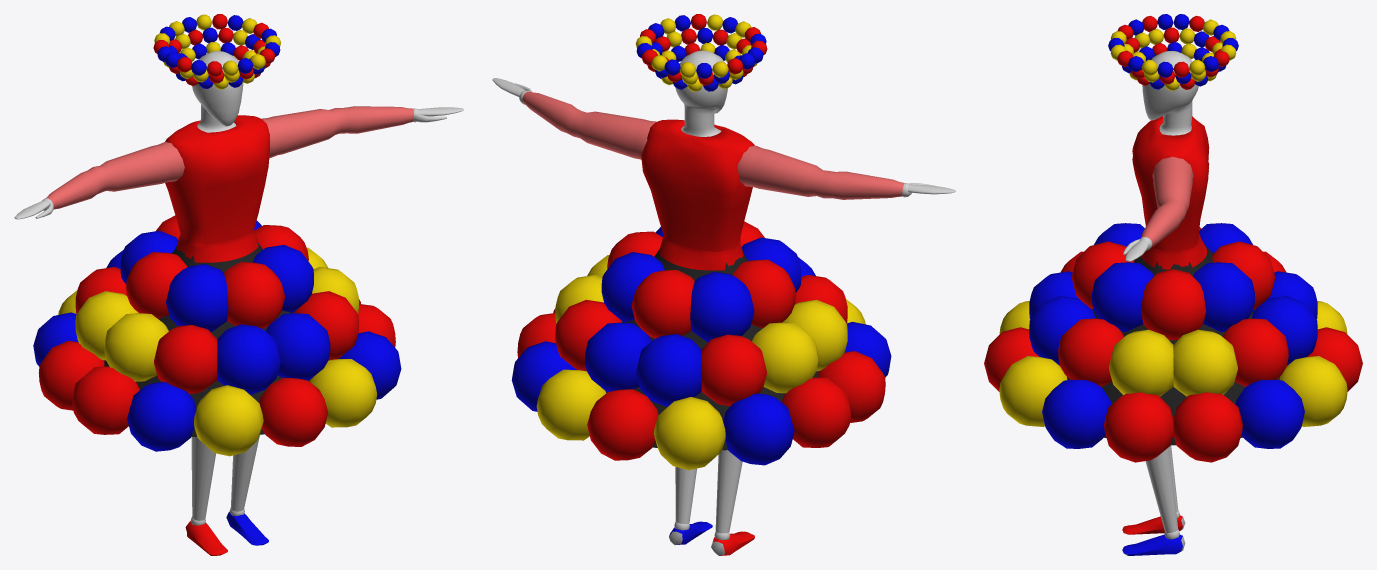
The model's file is Baller.gltf.
3 views of the same model, side by side, from view 1: azimuth 30°, elevation 25°; view 2: azimuth 150°, elevation 25°; view 3: azimuth 270°, elevation 25° (orthographic). The views are drawn at different scales.
Parts seen in each view (by area): view 1: SkirtSpheres, Shirt, BallHat, Body04, Skirt, Shoes; view 2: SkirtSpheres, Shirt, BallHat, Body04, Skirt, Shoes; view 3: SkirtSpheres, Shirt, BallHat, Body04, Skirt, Shoes.
Part boxes in pixels (box(x1,y1,x2,y2)): SkirtSpheres: box(33, 215, 401, 456); Shirt: box(46, 106, 413, 262); BallHat: box(153, 14, 280, 89); Body04: box(14, 51, 463, 525); Skirt: box(104, 240, 309, 436); Shoes: box(185, 511, 268, 555); SkirtSpheres: box(511, 221, 891, 470); Shirt: box(522, 91, 904, 270); BallHat: box(635, 14, 767, 91); Body04: box(492, 50, 955, 540); Skirt: box(605, 247, 818, 450); Shoes: box(669, 521, 754, 555); SkirtSpheres: box(984, 223, 1362, 462); Shirt: box(1132, 116, 1209, 269); BallHat: box(1108, 14, 1238, 90); Body04: box(1123, 48, 1198, 539); Skirt: box(1067, 246, 1279, 445); Shoes: box(1122, 515, 1185, 555).
Bounding box in the file's own units: 4.34 × 4.57 × 3.12.
Materials: 1 (1 with a texture image).
